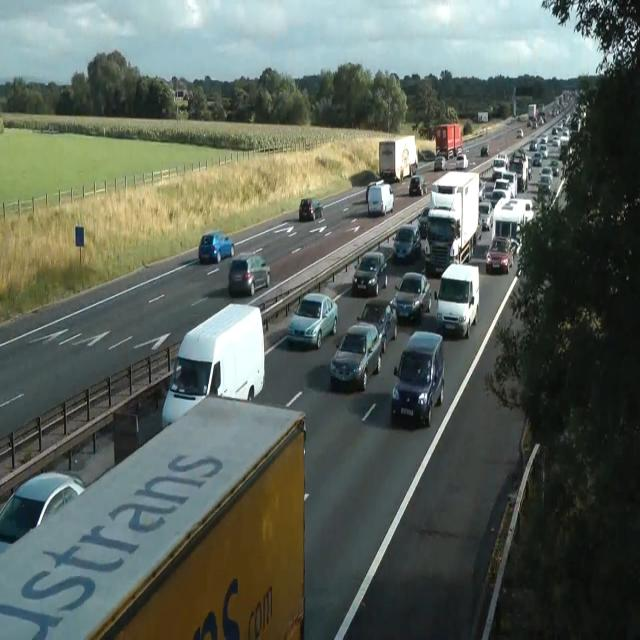bus: (0, 470, 86, 554), (356, 299, 398, 353), (228, 251, 270, 297), (198, 230, 234, 264), (299, 198, 323, 222), (416, 206, 431, 238), (478, 200, 494, 230), (365, 180, 385, 203), (408, 175, 426, 196), (417, 148, 435, 162), (382, 168, 398, 183), (456, 153, 468, 170), (434, 154, 446, 170), (550, 160, 560, 176), (478, 180, 484, 201), (480, 145, 490, 156), (517, 128, 523, 138)
jeep: (390, 329, 444, 426), (329, 321, 382, 391), (434, 261, 480, 338), (287, 291, 338, 349), (424, 207, 459, 276), (390, 270, 432, 324), (352, 250, 388, 297), (485, 233, 513, 274), (393, 222, 421, 262), (368, 182, 394, 216)
minibus: (0, 394, 306, 639), (161, 302, 265, 429), (424, 170, 482, 276), (491, 197, 535, 247), (378, 134, 418, 182), (434, 124, 462, 160), (509, 150, 529, 192), (434, 152, 468, 171), (528, 102, 546, 126), (528, 103, 538, 119), (478, 111, 488, 123)
